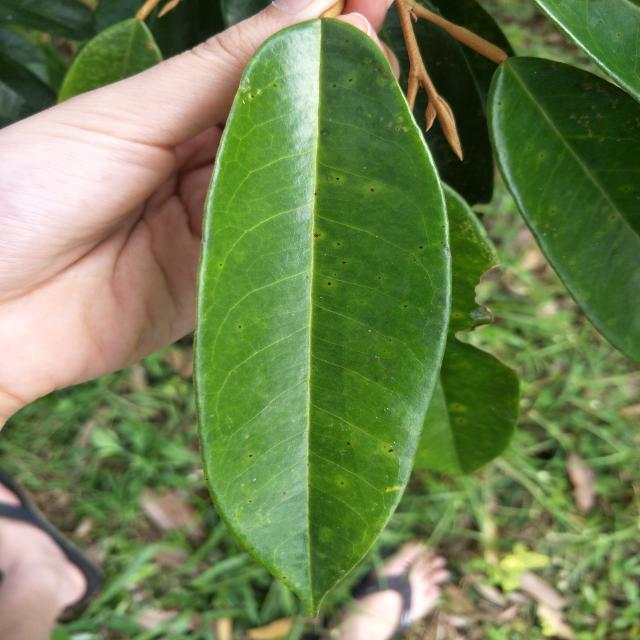Leaf Spot: (310, 221, 355, 295), (325, 161, 394, 196), (342, 439, 411, 459), (332, 475, 396, 496), (391, 298, 426, 316), (411, 236, 429, 264), (230, 322, 252, 334)
